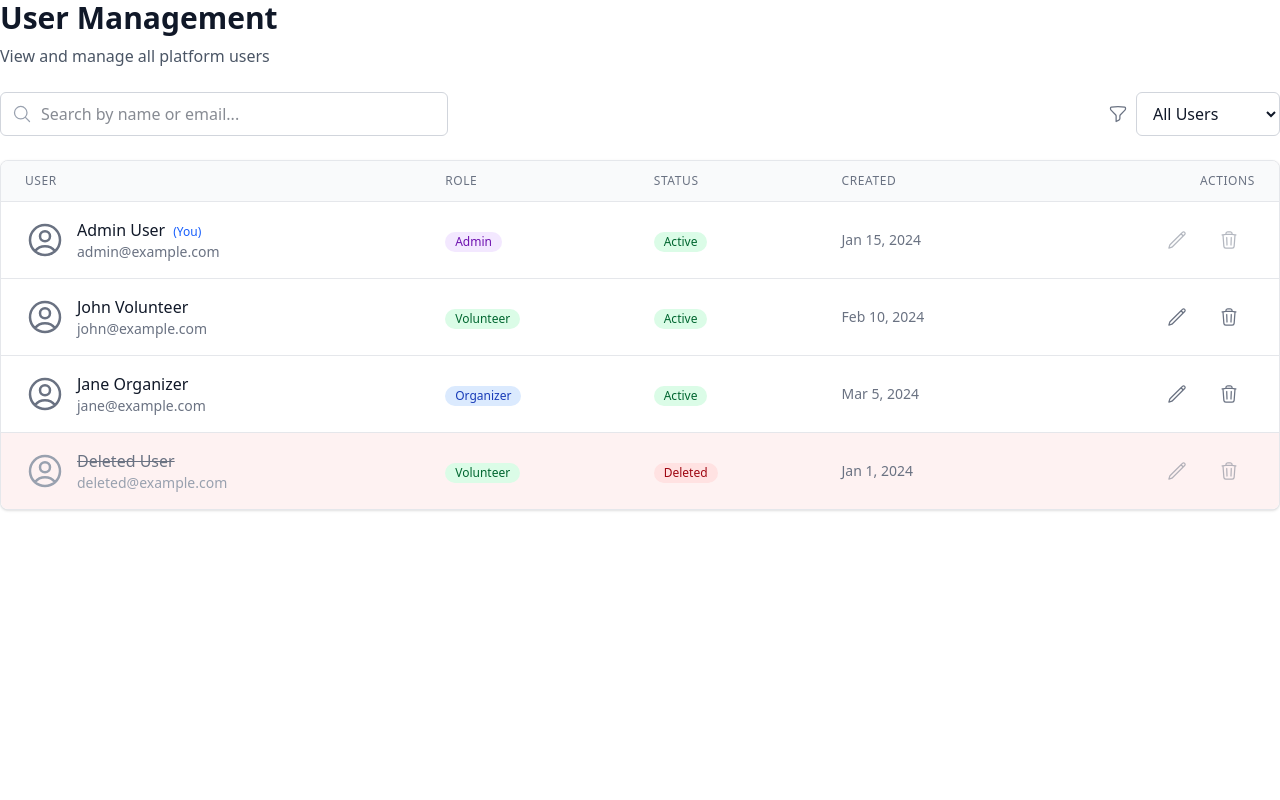
Test: AdminUsersPage › opens role change modal when clicking edit button
Expected: the text "John Volunteer" is shown, [77,295,207,319]
Find the edit button for John Volunteer (not the current user)
Click the button titled "Change role" in the row of "John Volunteer" at point(1181, 317), box [1159,295,1203,339]
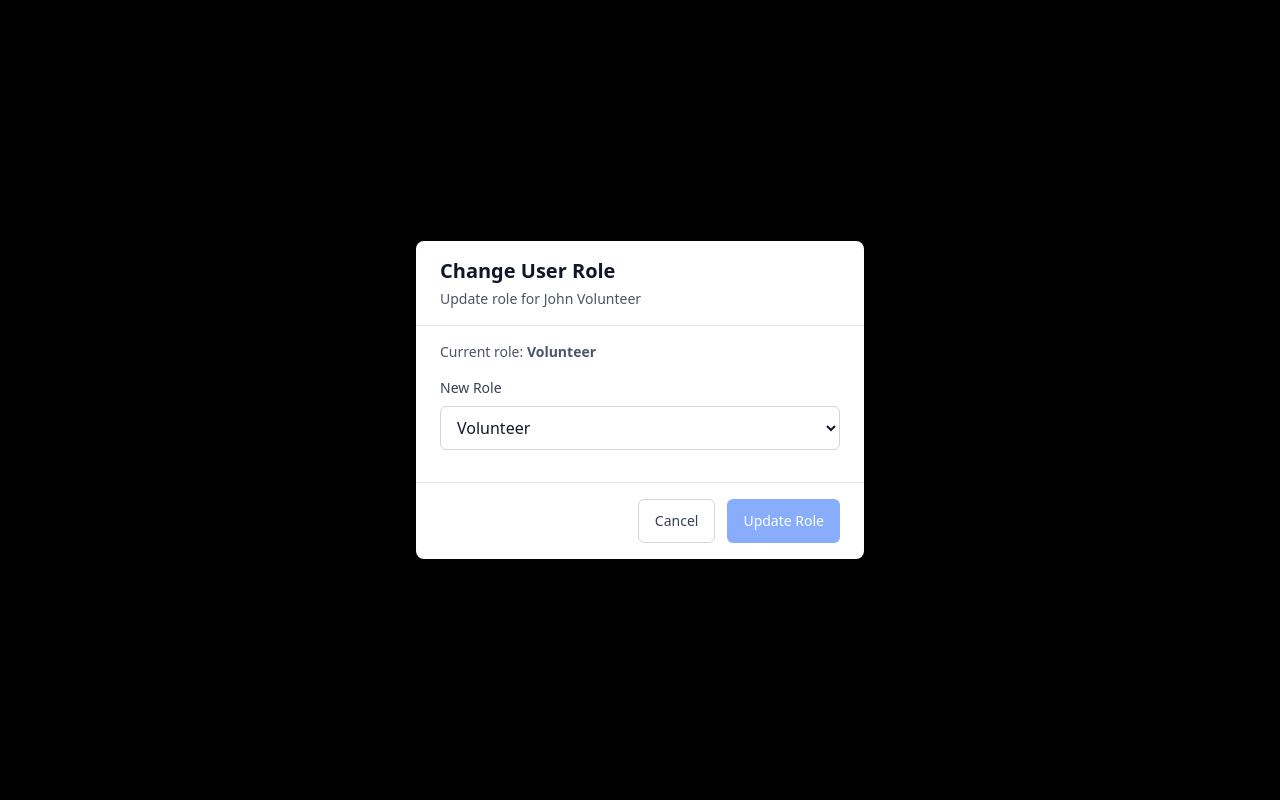
Expected: the heading "Change User Role" is shown, [440,257,616,284]
Expected: the text "New Role" is shown, [440,378,502,397]
